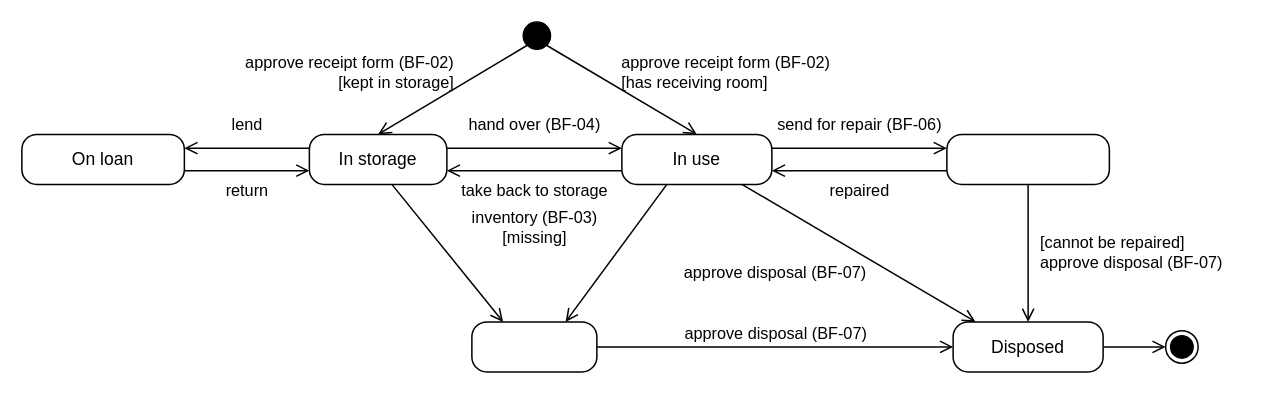
This 1263x395 diagram has some shape labels left out. The shapes that lost their labels are listed below. From the top down, each one's centre as x and y in pixels, then its label:
At [1028,159]: "Under repair".
At [533,346]: "Reported lost".
